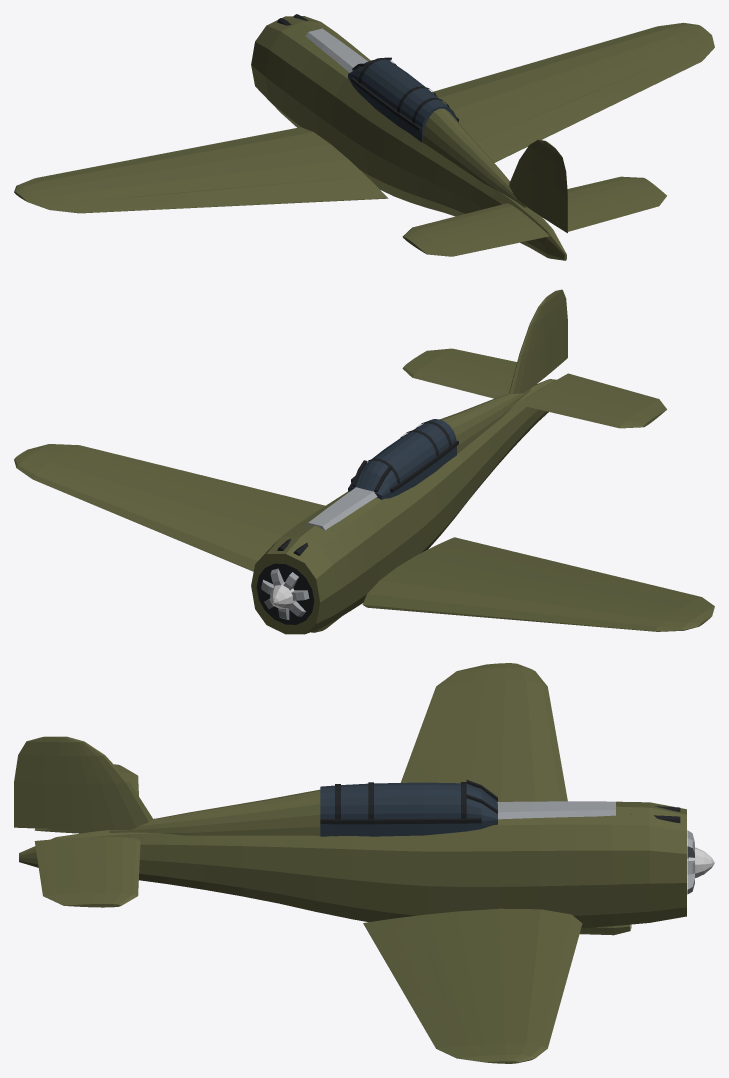
The picture shows the model from 3 angles, top to bottom: view 1: azimuth 30°, elevation 25°; view 2: azimuth 150°, elevation 25°; view 3: azimuth 270°, elevation 25°; orthographic projection. The views are drawn at different scales.
Parts seen in each view (by area): view 1: Fuselage, Wing L, Wing R, Cockpit Glass, Flap L, Dorsal Spine, Flap R, Stabilizer L, Rudder, Stabilizer R, Elevator L, Aileron R (+5 smaller); view 2: Fuselage, Wing L, Wing R, Cockpit Glass, Stabilizer L, Stabilizer R, Vertical Fin, Dorsal Spine, Flap L, Flap R, Rudder, Cowl Face (+7 smaller); view 3: Fuselage, Wing R, Wing L, Cockpit Glass, Dorsal Spine, Rudder, Vertical Fin, Stabilizer R, Flap R, Elevator R, Aileron L, Glare Panel (+3 smaller).
Part boxes in pixels (<box>): Fuselage: <box>251,16,566,260</box>; Wing L: <box>14,127,388,210</box>; Wing R: <box>432,22,714,141</box>; Cockpit Glass: <box>348,59,456,142</box>; Flap L: <box>184,178,367,207</box>; Dorsal Spine: <box>416,108,526,207</box>; Flap R: <box>476,93,605,162</box>; Stabilizer L: <box>402,203,534,249</box>; Rudder: <box>541,141,567,233</box>; Stabilizer R: <box>567,176,658,214</box>; Elevator L: <box>418,223,549,256</box>; Aileron R: <box>610,43,710,98</box>; Fuselage: <box>251,379,556,634</box>; Wing L: <box>362,537,714,631</box>; Wing R: <box>14,444,309,571</box>; Cockpit Glass: <box>348,419,456,499</box>; Stabilizer L: <box>524,382,658,428</box>; Stabilizer R: <box>402,355,514,398</box>; Vertical Fin: <box>509,297,546,393</box>; Dorsal Spine: <box>440,389,530,458</box>; Flap L: <box>450,541,605,581</box>; Flap R: <box>185,474,325,515</box>; Rudder: <box>544,289,567,375</box>; Cowl Face: <box>256,563,314,624</box>; Fuselage: <box>19,801,686,927</box>; Wing R: <box>363,908,582,1063</box>; Wing L: <box>408,663,567,801</box>; Cockpit Glass: <box>320,782,497,836</box>; Dorsal Spine: <box>109,789,332,836</box>; Rudder: <box>14,736,71,829</box>; Vertical Fin: <box>65,736,153,829</box>; Stabilizer R: <box>70,836,140,907</box>; Flap R: <box>368,924,444,999</box>; Elevator R: <box>34,838,83,906</box>; Aileron L: <box>413,673,471,747</box>; Glare Panel: <box>497,801,615,819</box>.
Bounding box in the file's own units: 11.38 × 2.61 × 8.47.
